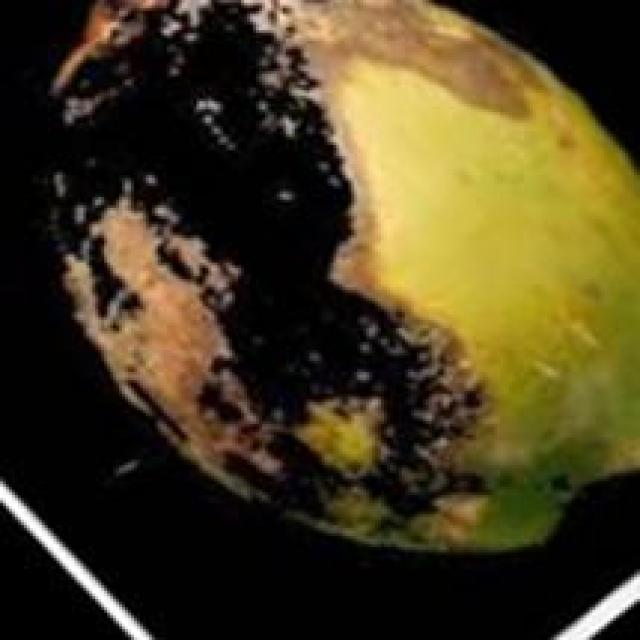damaged: (42, 0, 637, 558)
